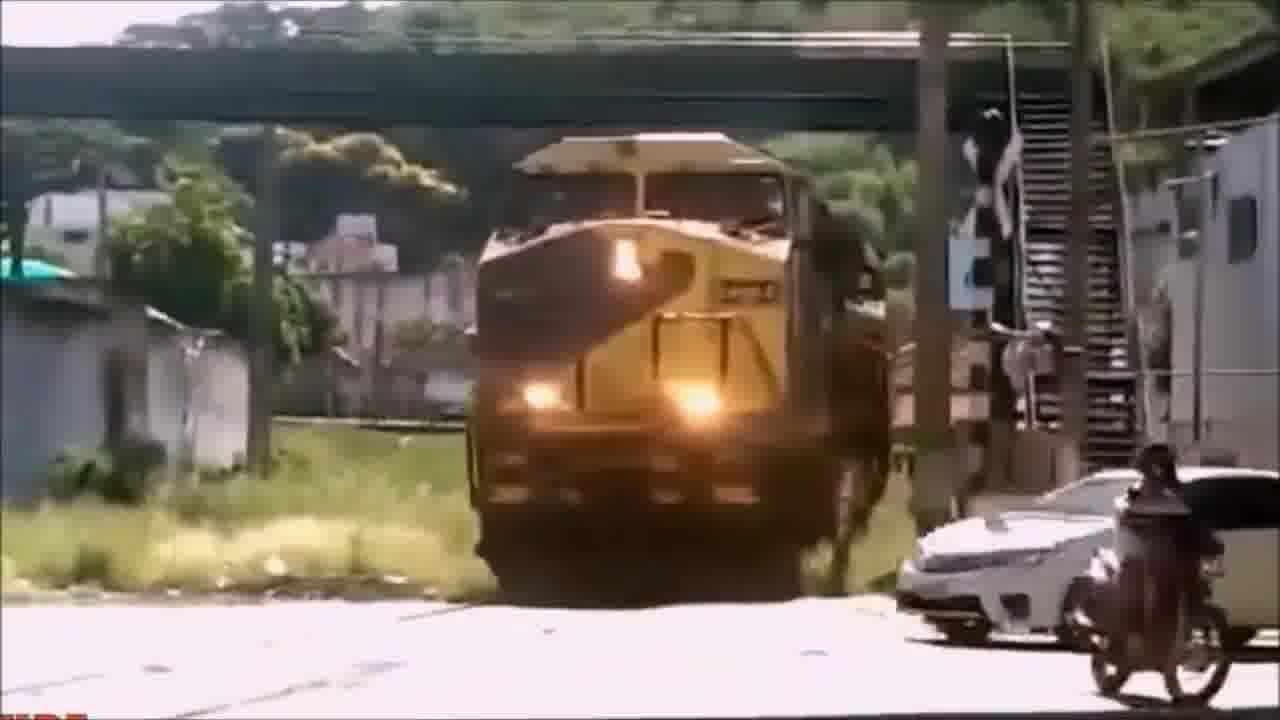crossing railway track: (895, 446, 1280, 655)
